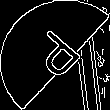P_SE: (22, 25, 88, 85)
